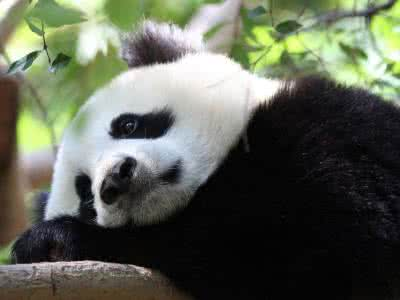panda: (1, 17, 396, 300)
